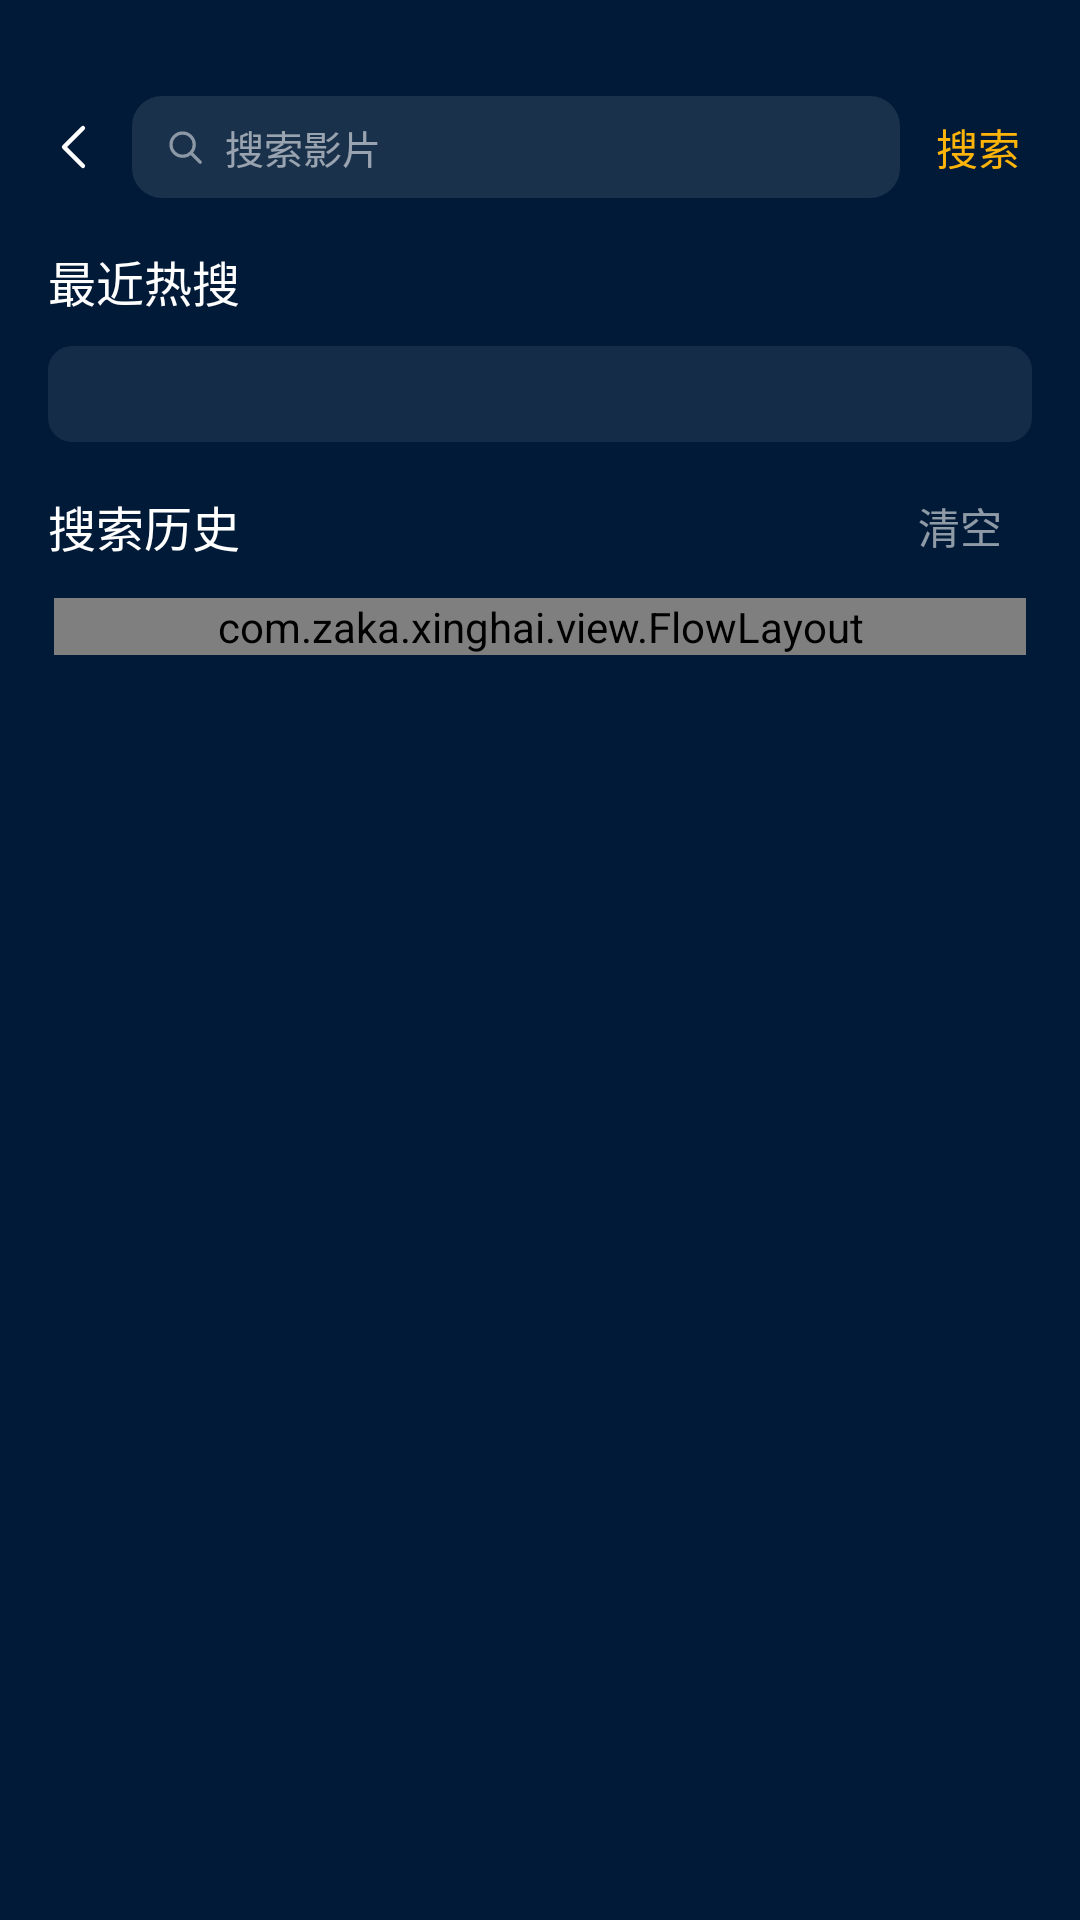

Screen size 1080*1920. Icon name, then its center in pixels as (x=x, y=y):
back: (x=73, y=147)
